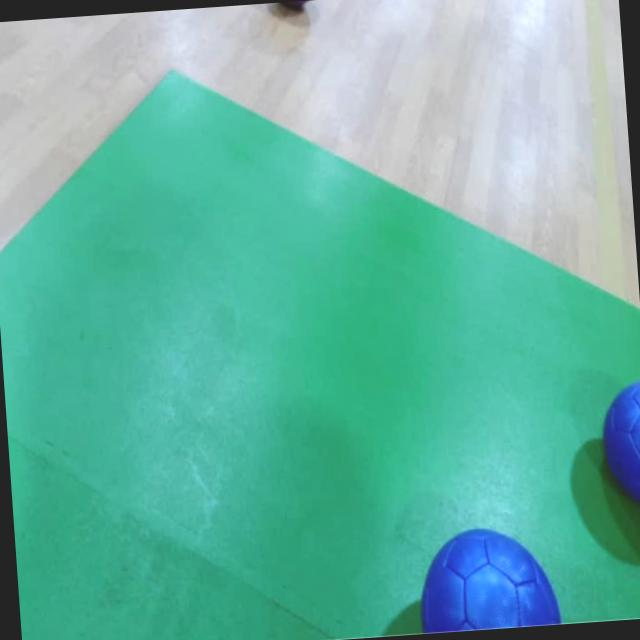blue_ball: (417, 522, 562, 634), (600, 374, 640, 506)
